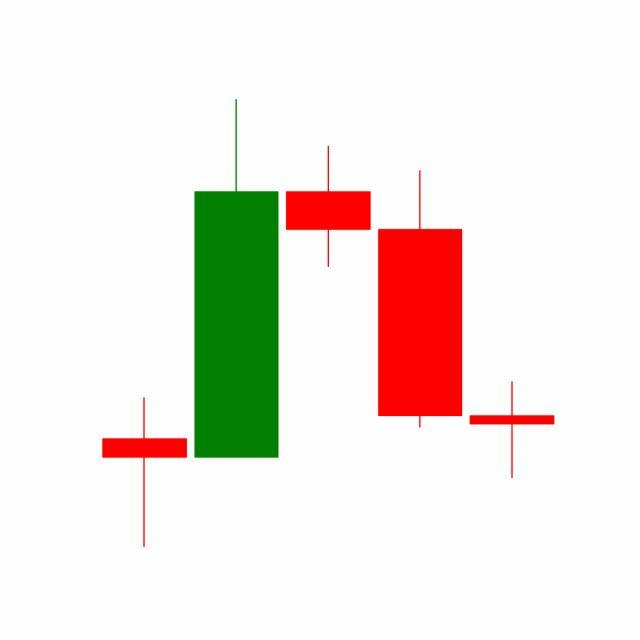Spinning Top: (466, 380, 559, 480)
